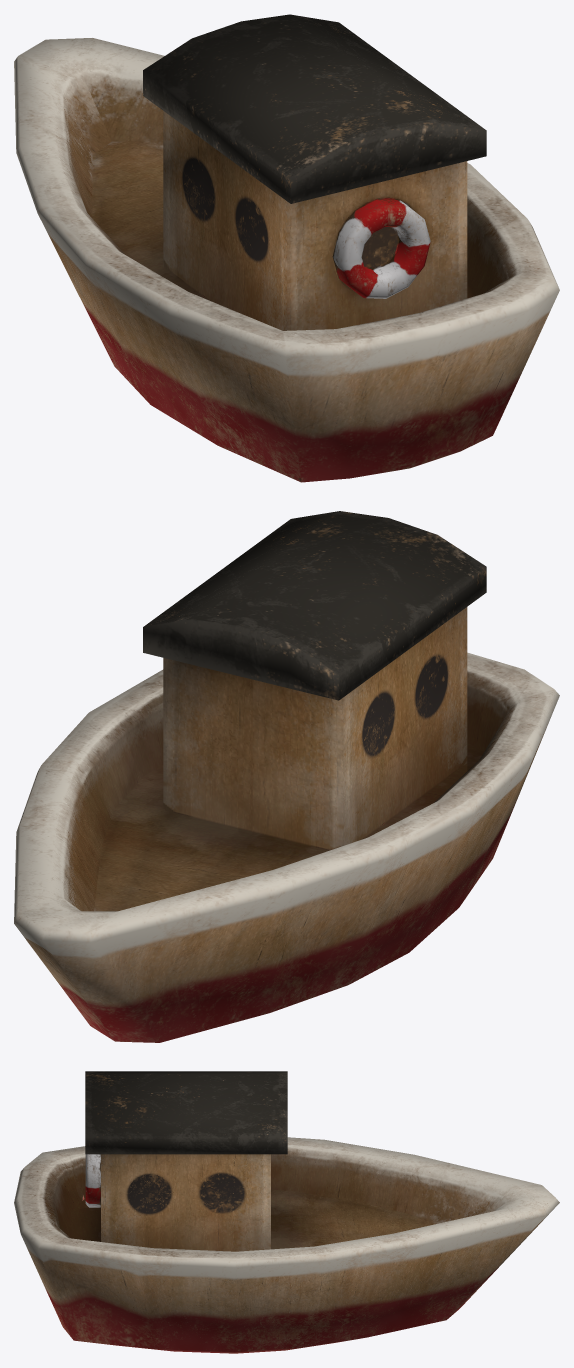
The model's file is toyBoat.fbx.
3 renders of one model, top to bottom at view 1: azimuth 30°, elevation 25°; view 2: azimuth 150°, elevation 25°; view 3: azimuth 270°, elevation 25°, orthographic. The views are drawn at different scales.
Parts seen in each view (by area): view 1: Boat_low; view 2: Boat_low; view 3: Boat_low.
Boxes of the visible parts, left/top/right/bottom form: Boat_low: left=14, top=14, right=559, bottom=482; Boat_low: left=14, top=511, right=559, bottom=1042; Boat_low: left=14, top=1071, right=559, bottom=1353.
Bounding box in the file's own units: 152 × 128 × 269.
